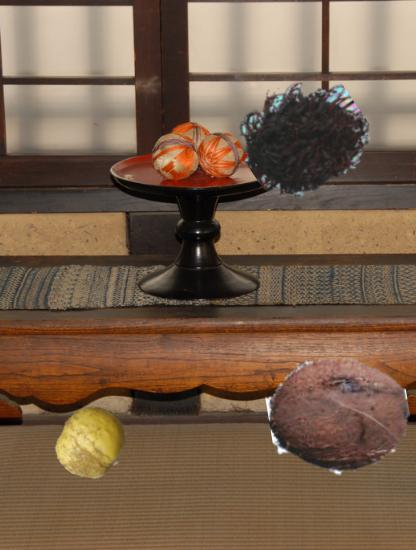Apple: (55, 406, 129, 480)
Cocos: (269, 346, 410, 487)
Rambutan: (240, 74, 365, 199)
